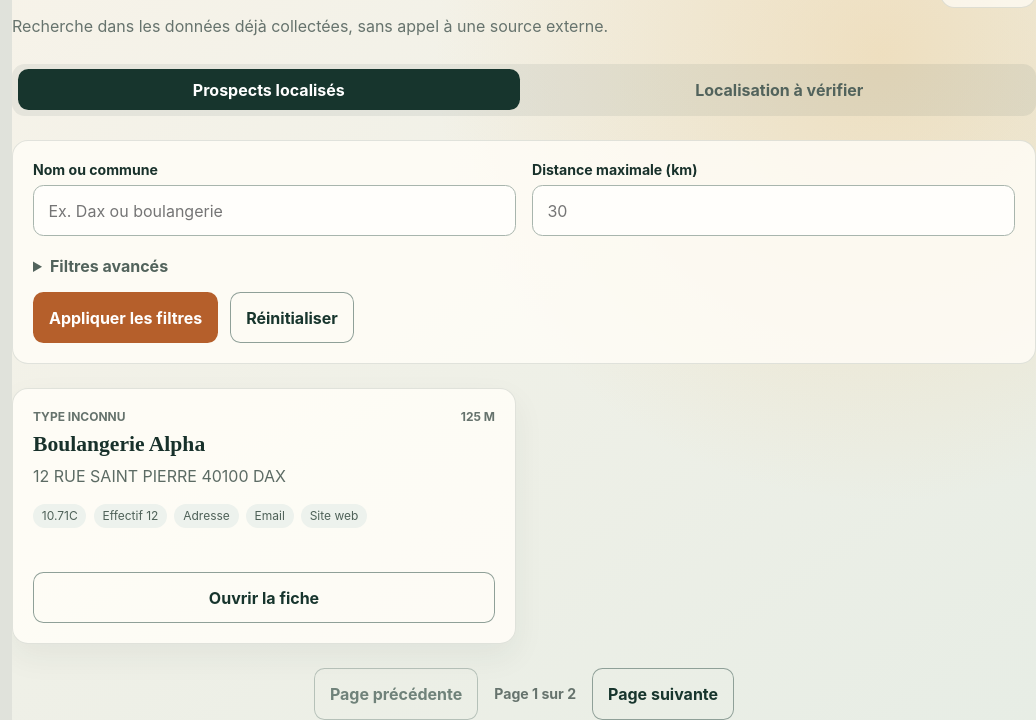
Test: prospect catalogue › paginates without changing the active filters
(page scrolled)
Expected: the text "Page 1 sur 2" is shown, left=494, top=685, right=576, bottom=702
Click the button "Page suivante".
click(663, 694)  # box left=592, top=668, right=734, bottom=719
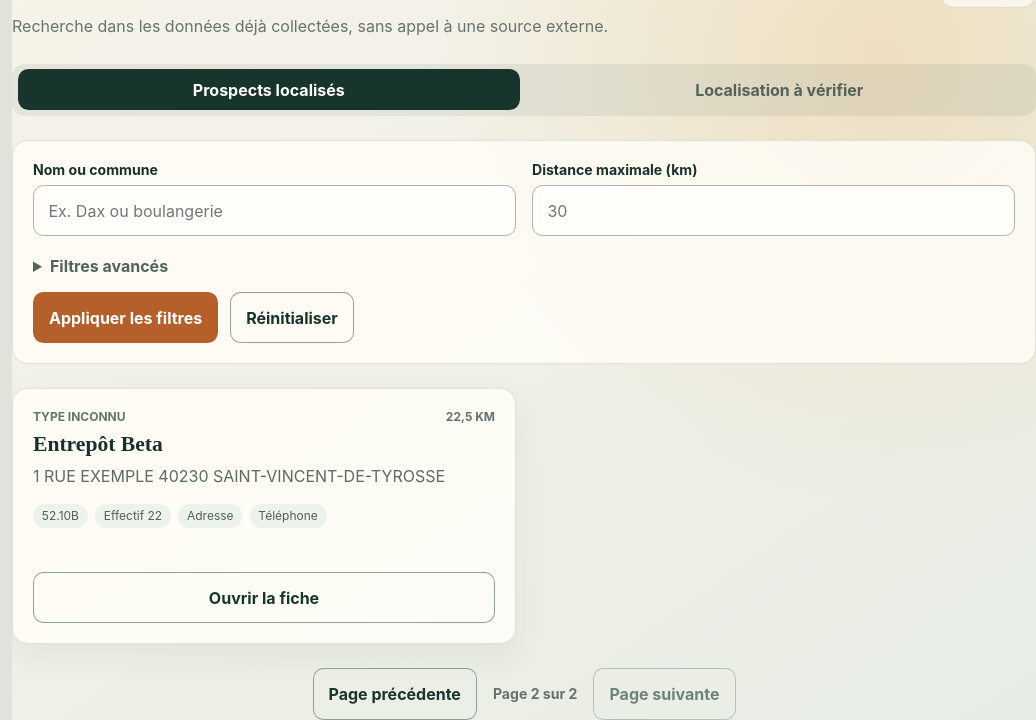
Expected: the text "Page 2 sur 2" is shown, left=493, top=685, right=577, bottom=702
